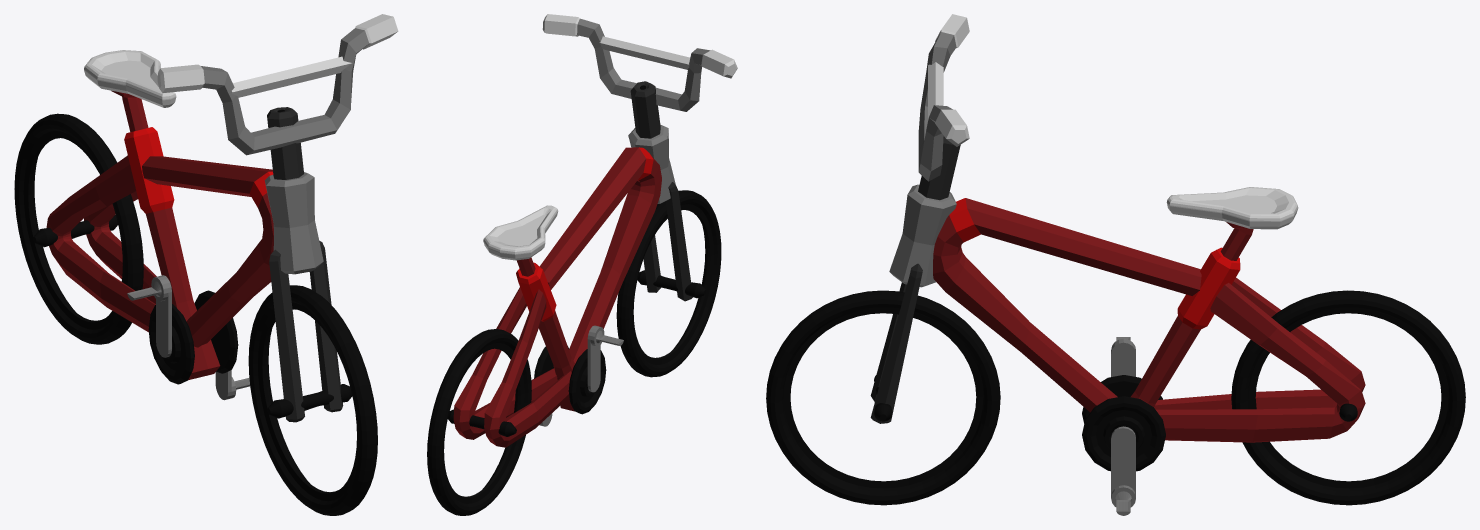
Rendered from bike.obj.
3 renders of one model, left to right at view 1: azimuth 30°, elevation 25°; view 2: azimuth 150°, elevation 25°; view 3: azimuth 270°, elevation 25°, orthographic. The views are drawn at different scales.
Visible parts, largest first — view 1: Frame.028, Handlebar.028, FrontWheel, BackWheel.029, Cylinder.169, Circle.160, Circle.163, Circle.161, Circle.162; view 2: Frame.028, Handlebar.028, FrontWheel, BackWheel.029, Circle.160, Cylinder.169, Circle.163; view 3: Frame.028, FrontWheel, BackWheel.029, Handlebar.028, Circle.161, Cylinder.169, Circle.162, Circle.163.
Part boxes in pixels (bbox=[...]): Frame.028: bbox=[46, 50, 273, 380]; Handlebar.028: bbox=[157, 14, 398, 422]; FrontWheel: bbox=[248, 285, 377, 515]; BackWheel.029: bbox=[14, 113, 143, 344]; Cylinder.169: bbox=[264, 172, 323, 274]; Circle.160: bbox=[148, 304, 194, 384]; Circle.163: bbox=[127, 275, 171, 357]; Circle.161: bbox=[194, 290, 238, 373]; Circle.162: bbox=[215, 370, 250, 400]; Frame.028: bbox=[453, 147, 661, 447]; Handlebar.028: bbox=[542, 14, 737, 301]; FrontWheel: bbox=[616, 190, 721, 377]; BackWheel.029: bbox=[427, 329, 531, 515]; Circle.160: bbox=[568, 349, 606, 414]; Cylinder.169: bbox=[628, 124, 675, 203]; Circle.163: bbox=[587, 325, 623, 392]; Frame.028: bbox=[933, 187, 1365, 442]; FrontWheel: bbox=[766, 290, 1000, 505]; BackWheel.029: bbox=[1231, 290, 1465, 505]; Handlebar.028: bbox=[870, 14, 969, 423]; Circle.161: bbox=[1082, 396, 1165, 471]; Cylinder.169: bbox=[889, 184, 956, 287]; Circle.162: bbox=[1111, 426, 1135, 515]; Circle.163: bbox=[1111, 337, 1135, 376].
Bounding box in the file's own units: 2.74 × 4.85 × 7.08.
